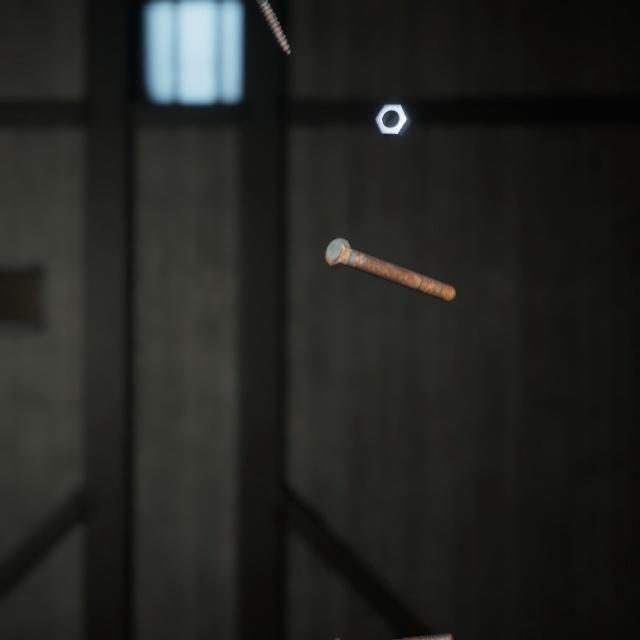bolt: (320, 217, 460, 290), (325, 605, 458, 640), (256, 0, 295, 51)
nut: (370, 88, 415, 129)
